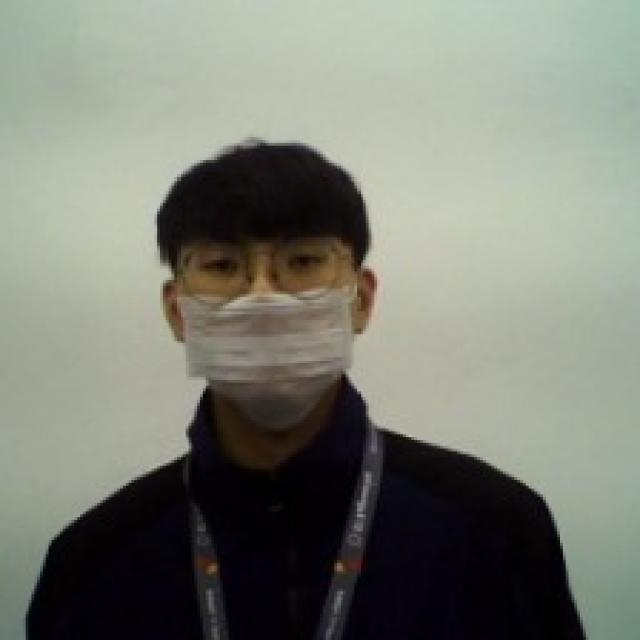mask: (153, 274, 374, 432)
no_gloves: (146, 128, 372, 260)
